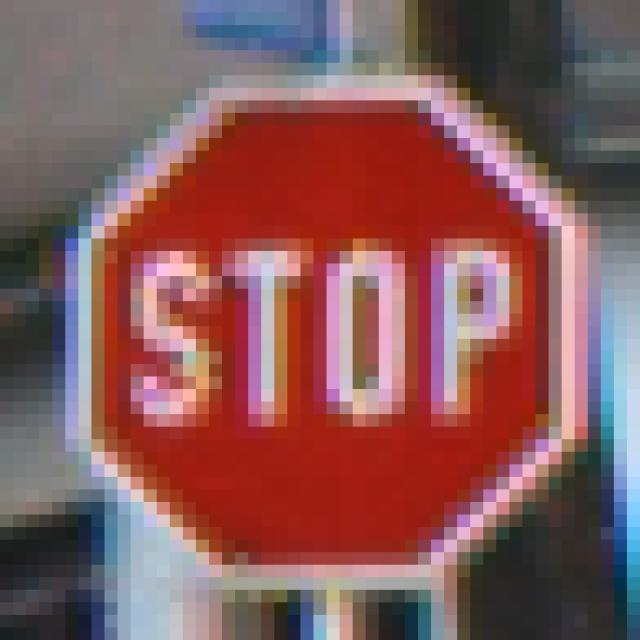STOP: (66, 64, 563, 578)
